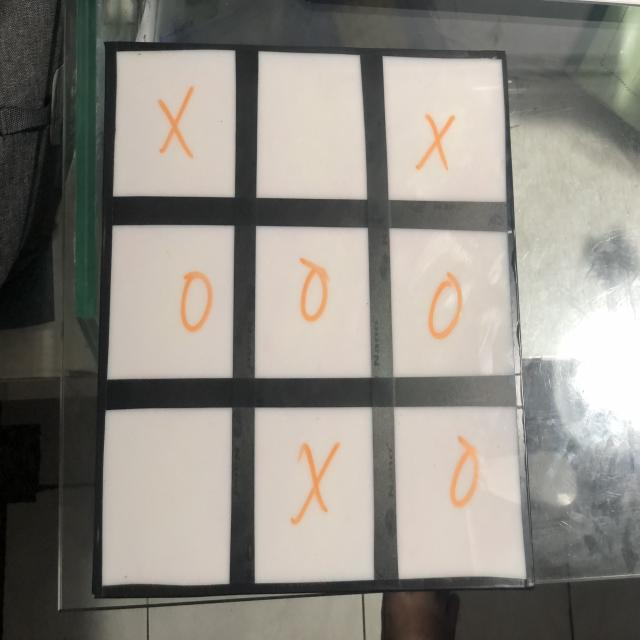null: (102, 405, 237, 593), (256, 47, 371, 204)
o: (424, 271, 463, 343), (444, 442, 485, 509), (180, 264, 215, 339), (298, 256, 330, 331)
table: (88, 39, 528, 591)
x: (291, 434, 338, 526), (155, 83, 200, 162), (416, 110, 452, 171)
